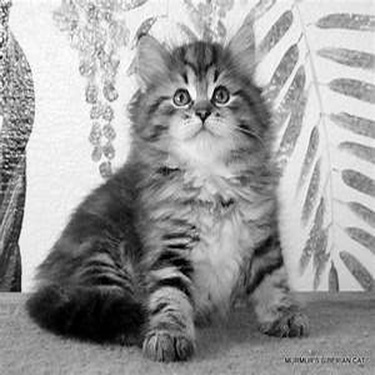cat: (26, 22, 312, 361)
